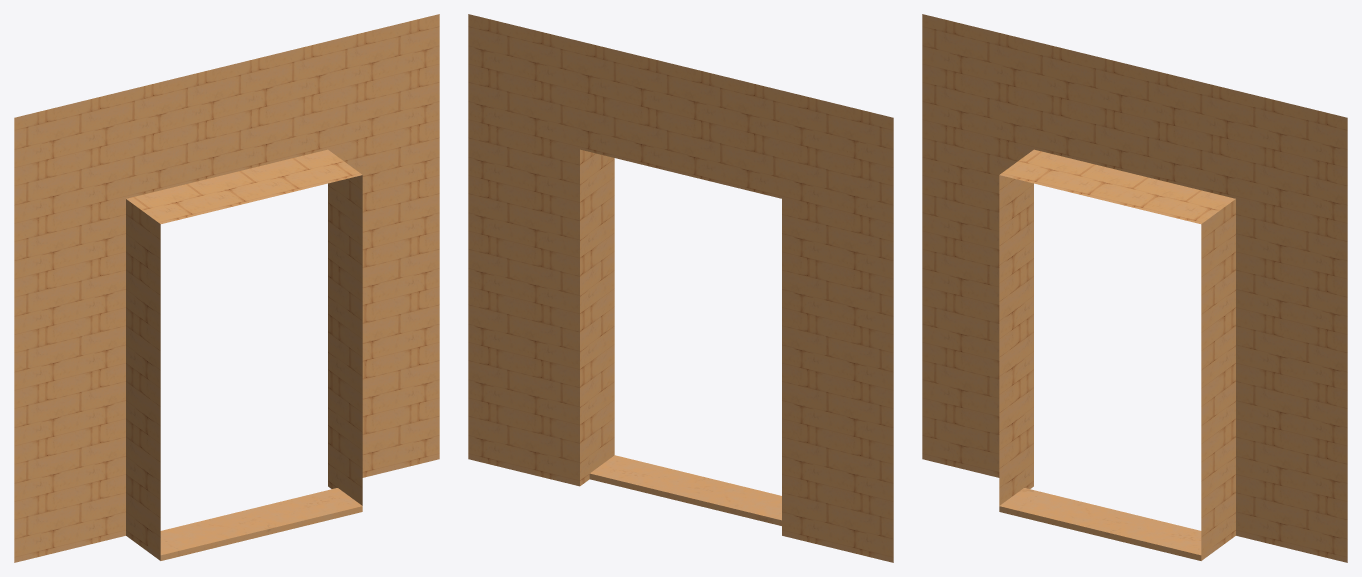
The model's file is Door_Wall_V1.fbx.
3 renders of one model, left to right at view 1: azimuth 30°, elevation 25°; view 2: azimuth 150°, elevation 25°; view 3: azimuth 330°, elevation 25°, orthographic.
Visible parts, largest first — view 1: Door_Wall_V1; view 2: Door_Wall_V1; view 3: Door_Wall_V1.
Part boxes in pixels (x1,y1,x2,y2): Door_Wall_V1: (14, 14, 439, 562); Door_Wall_V1: (468, 14, 893, 562); Door_Wall_V1: (922, 14, 1347, 562).
Bounding box in the file's own units: 400 × 400 × 56.66.
